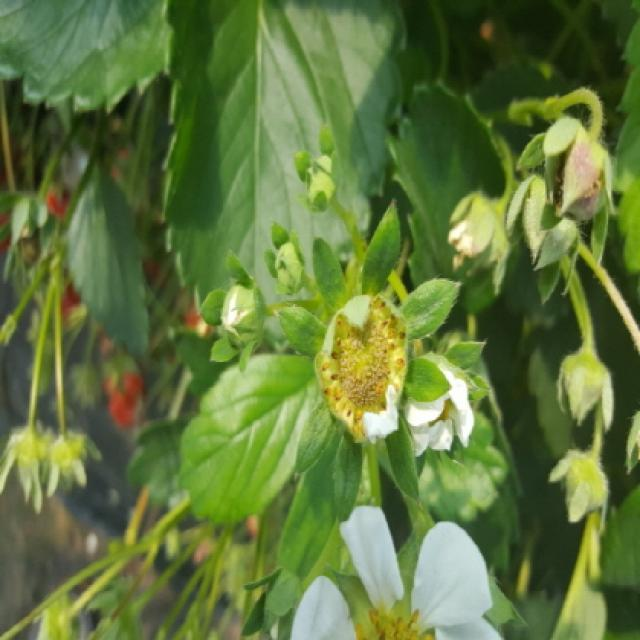Blossom Blight: (317, 295, 411, 439)
